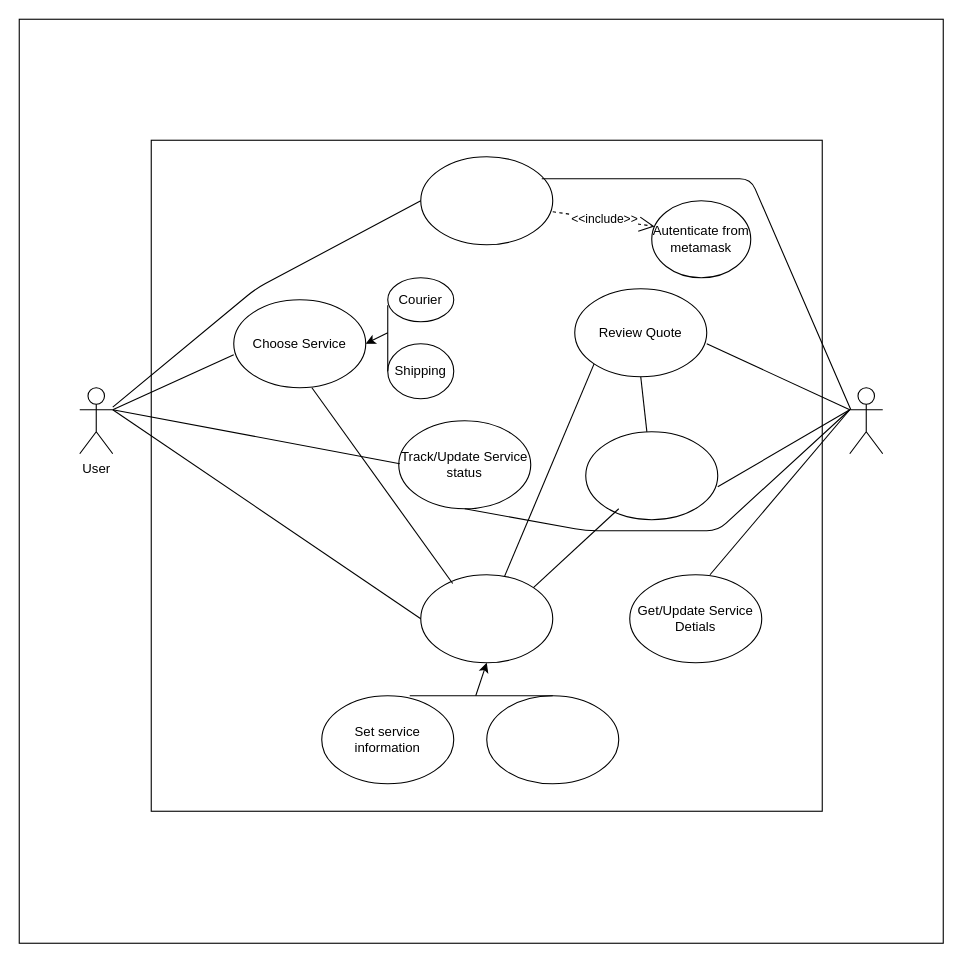
Some shapes in this 963 by 963 pixel diagram are drawn without their labels. Here are the shapes that lost their labels. From the top down, the centre of each, then its label:
[486,200]: Login
[866,420]: Admin
[651,475]: Set/Get Quote status
[486,618]: Add Quote
[552,739]: Set Address information
